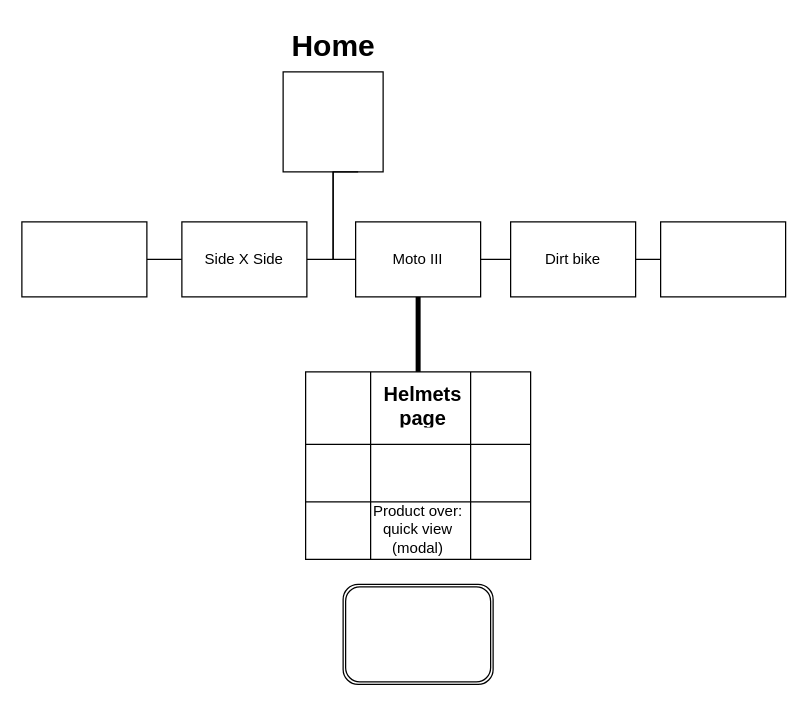
Some shapes in this 808 by 706 pixel diagram are drawn without their labels. The shapes that lost their labels are listed below. From the top down, each one's centre as x and y in pixels, then its label:
At pixel 84 259: "Snow".
At pixel 722 259: "Street bike".
